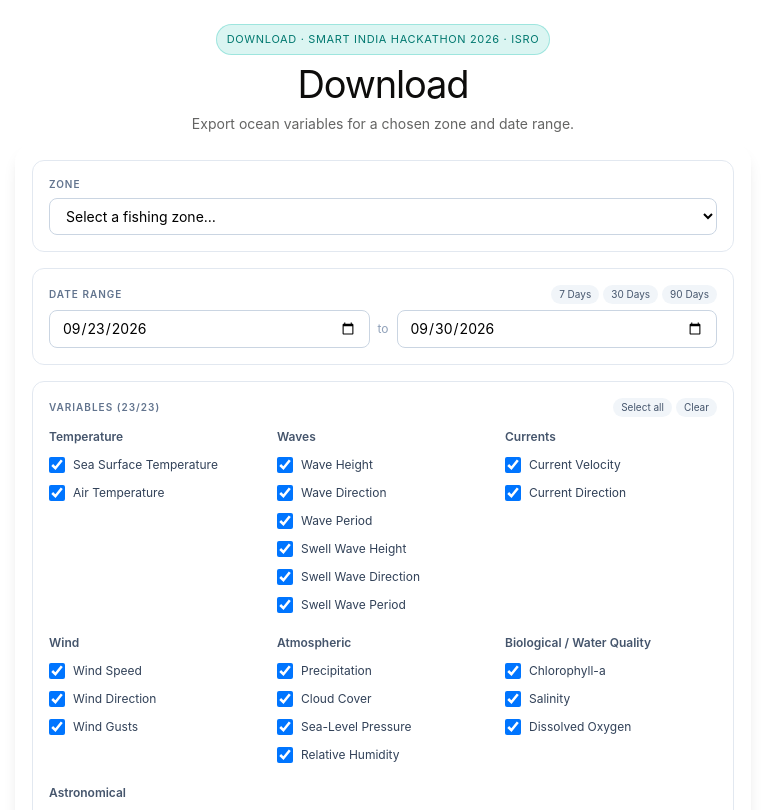
Scenario: DownloadPage — export gating › Export is disabled until a zone is picked
Select "PFZ-001 — near Kochi" in the dropdown. click: [383, 217]
box: top-left (49, 198), bottom-right (717, 235)
(page scrolled)
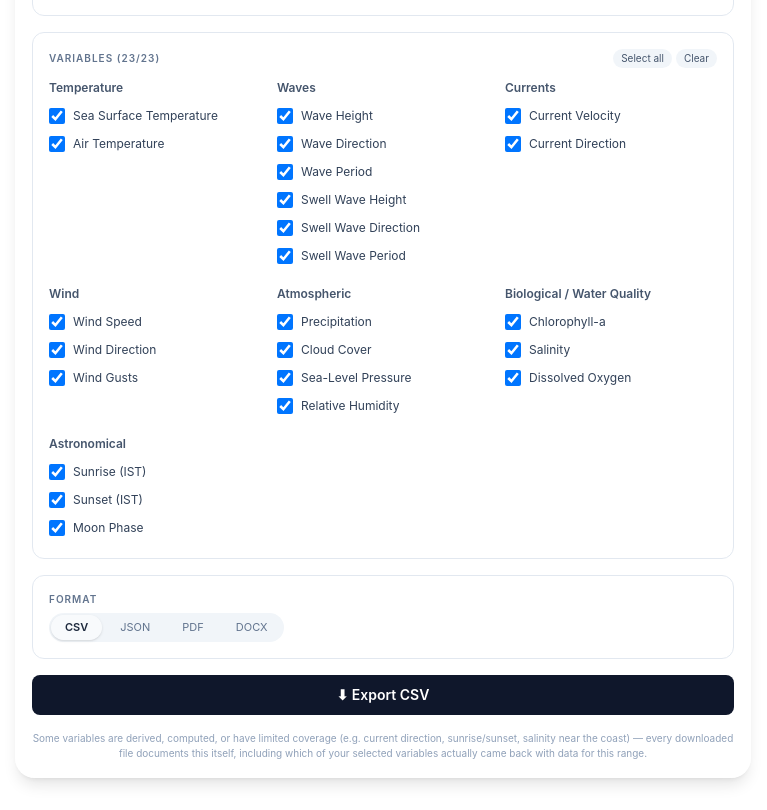
Expected: the button "⬇ Export CSV" is enabled, top-left (32, 675), bottom-right (734, 715)
